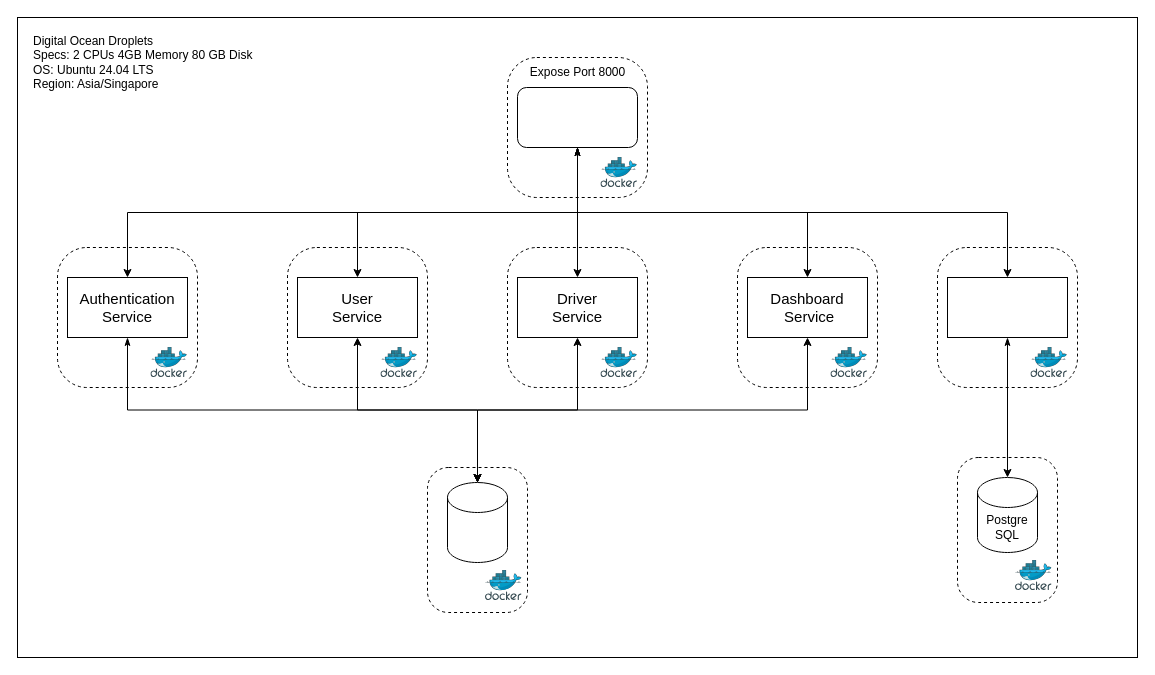
This 1155x675 diagram has some shape labels left out. Here are the shapes that lost their labels. From the top down, the box of each, then its label:
(516, 86, 638, 148): API Gateway
(946, 276, 1068, 338): Geolocation Tracking Service
(446, 482, 508, 562): MySQL
